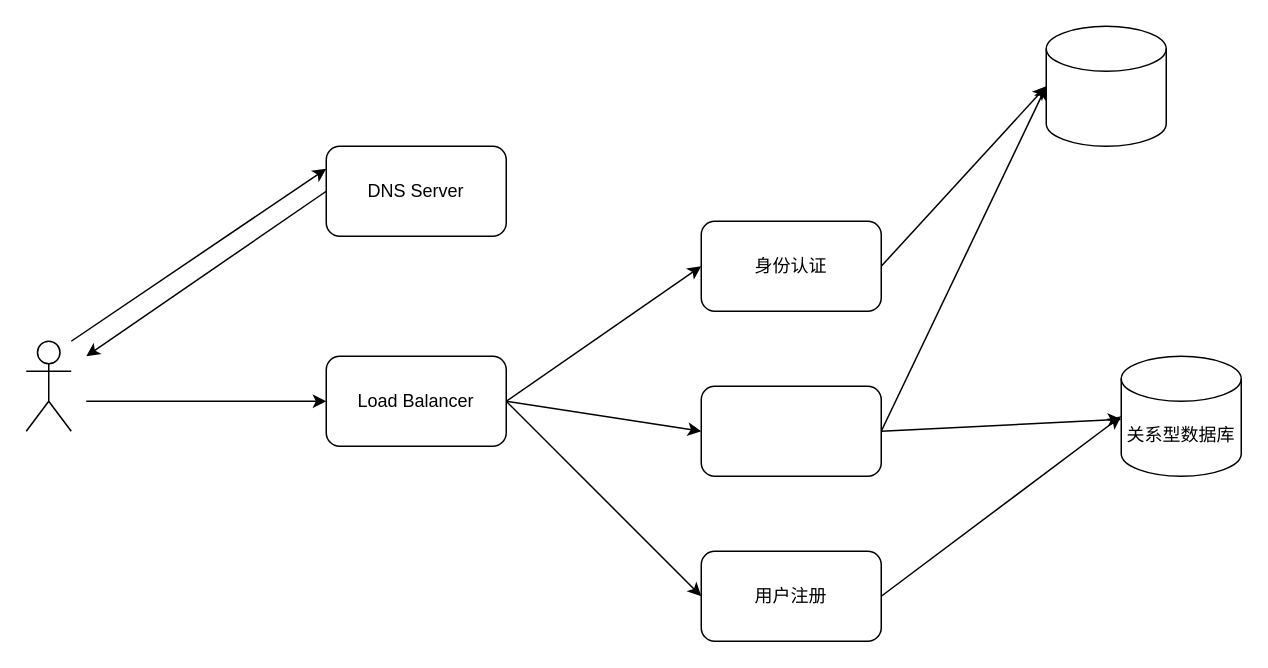
Some shapes in this 1268 by 668 pixel diagram are drawn without their labels. The shapes that lost their labels are listed below. From the top down, each one's centre as x and y in pixels, then its label:
At point 1105,85: "缓存数据库".
At point 48,385: "Actor".
At point 790,430: "用户登录".
